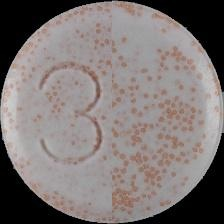64764-544: (0, 0, 224, 224)
